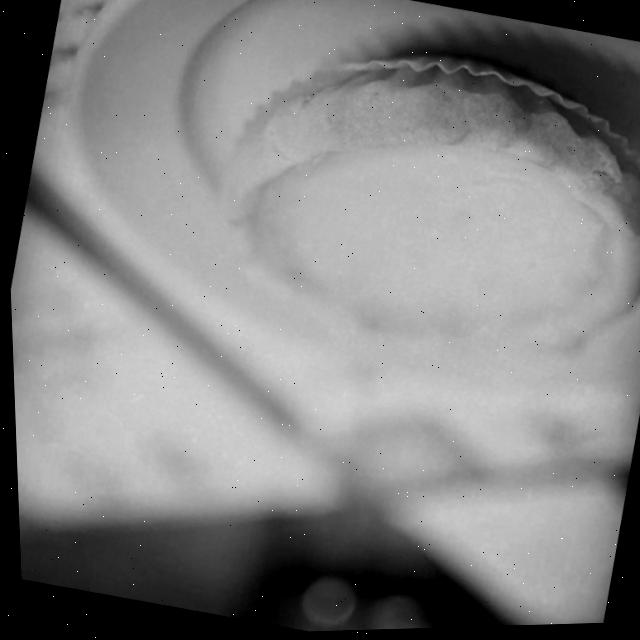炸货点心: (168, 5, 640, 429)
蛋糕甜品: (168, 5, 640, 429)
